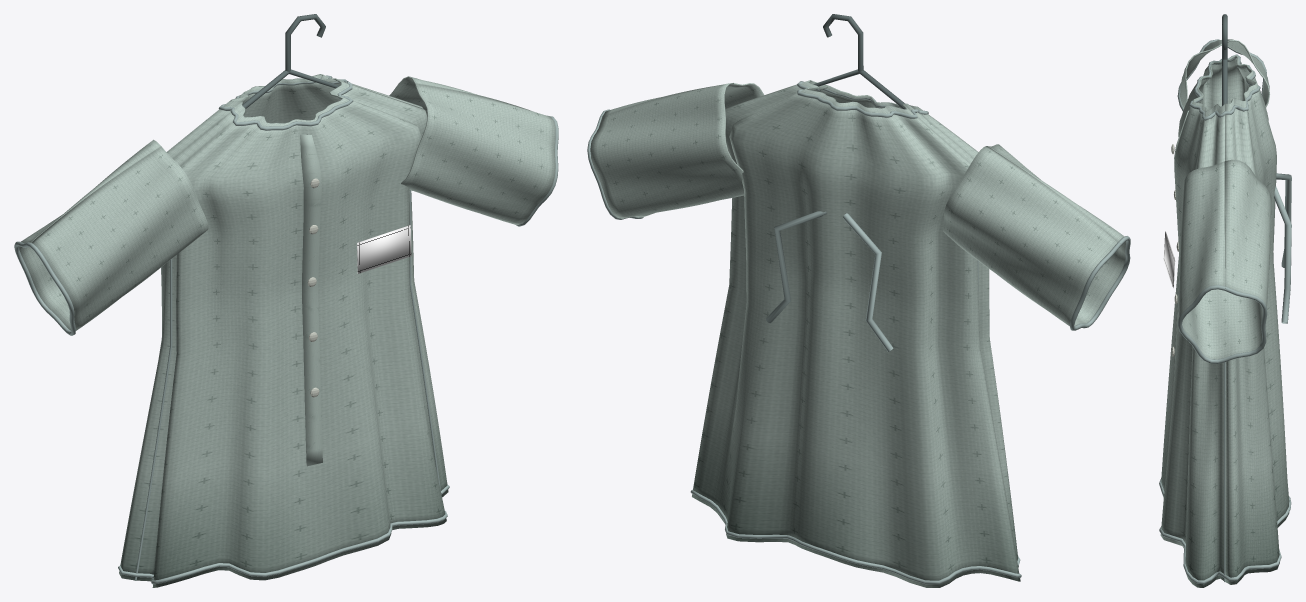
The model's file is hanging-gown.glb.
3 views of the same model, side by side, from view 1: azimuth 30°, elevation 25°; view 2: azimuth 150°, elevation 25°; view 3: azimuth 270°, elevation 25° (orthographic). The views are drawn at different scales.
Visible parts, largest first — view 1: Haru hanging hospital gown; view 2: Haru hanging hospital gown; view 3: Haru hanging hospital gown.
Boxes of the visible parts, left/top/right/bottom form: Haru hanging hospital gown: left=14, top=14, right=558, bottom=587; Haru hanging hospital gown: left=587, top=14, right=1130, bottom=587; Haru hanging hospital gown: left=1159, top=14, right=1291, bottom=587.
Size of the model in its own units: 1.03 by 0.9901 by 0.2334.
5 materials, 2 textured.
